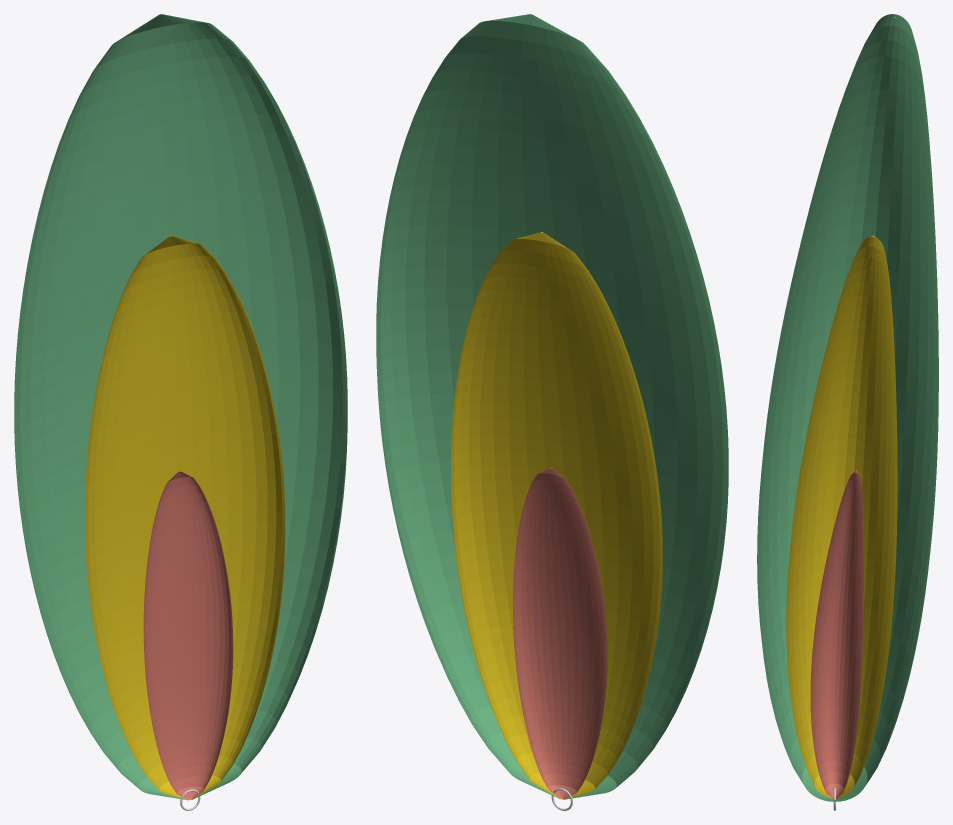
Rendered from eme-plume.glb.
The picture shows the model from 3 angles, left to right: view 1: azimuth 30°, elevation 25°; view 2: azimuth 150°, elevation 25°; view 3: azimuth 270°, elevation 25°; orthographic projection. The views are drawn at different scales.
Parts seen in each view (by area): view 1: outer_low_exposure_green, mid_exposure_amber, inner_high_exposure_red; view 2: outer_low_exposure_green, mid_exposure_amber, inner_high_exposure_red; view 3: outer_low_exposure_green, mid_exposure_amber, inner_high_exposure_red.
Part boxes in pixels (bbox=[...]): outer_low_exposure_green: bbox=[14, 14, 347, 800]; mid_exposure_amber: bbox=[85, 235, 285, 800]; inner_high_exposure_red: bbox=[143, 471, 233, 799]; outer_low_exposure_green: bbox=[376, 14, 728, 799]; mid_exposure_amber: bbox=[451, 232, 662, 799]; inner_high_exposure_red: bbox=[513, 468, 607, 799]; outer_low_exposure_green: bbox=[757, 14, 938, 801]; mid_exposure_amber: bbox=[786, 235, 897, 799]; inner_high_exposure_red: bbox=[810, 470, 863, 798].
Bounding box in the file's own units: 44.23 × 101 × 21.07.
